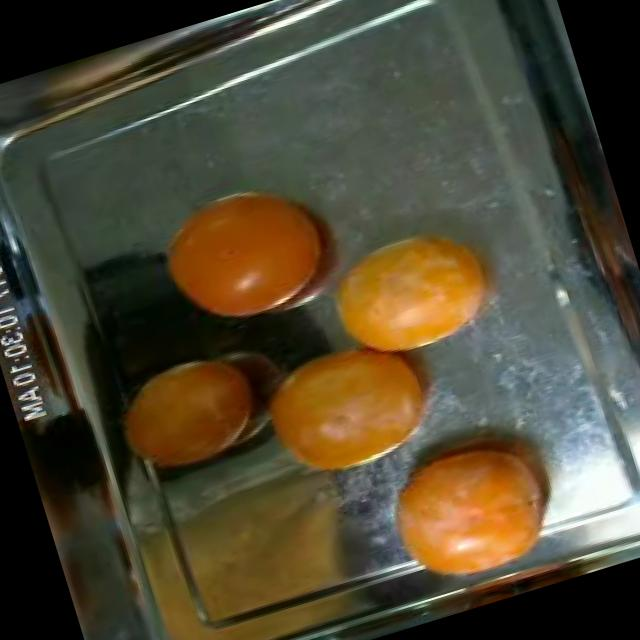Fruit: (345, 386, 600, 604), (227, 302, 467, 499), (294, 194, 532, 384), (134, 154, 358, 349), (92, 328, 290, 490)
